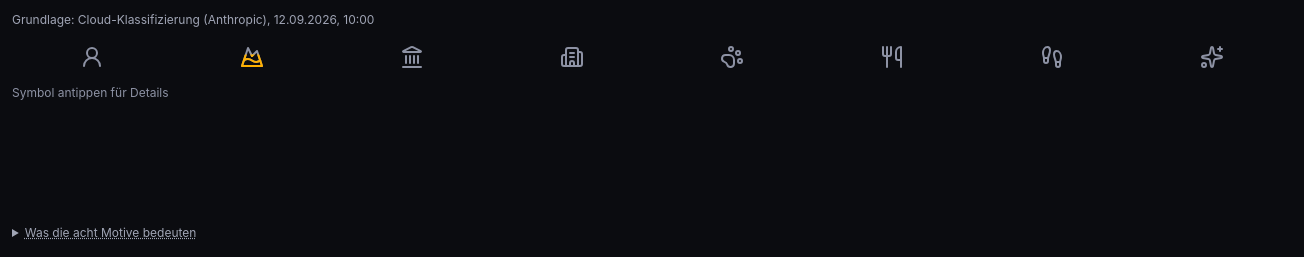
Scenario: MotifStrengthSection: die Detailzeile › shows name and value on hover, without a click
The width and height of the screenshot is (1304, 257).
Hover over the button named "Landschaft: 60%" at (252, 57), box [172,41,332,73]
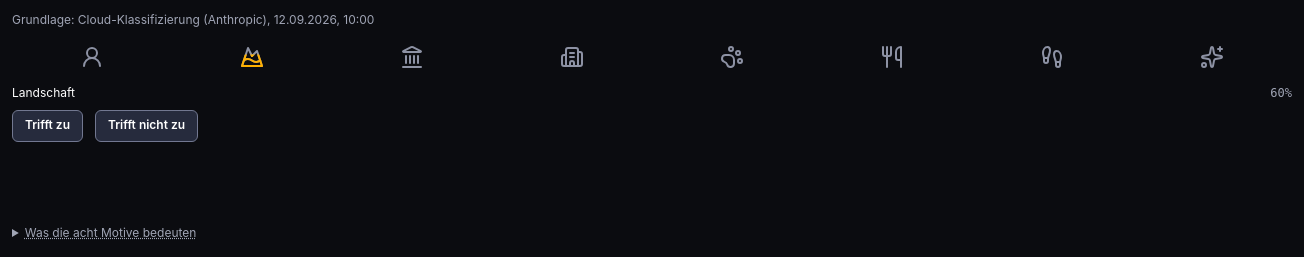
Result: the text "Landschaft" is shown at [12,85,75,102]
Result: the text "60%" is shown at [1270,85,1292,102]
